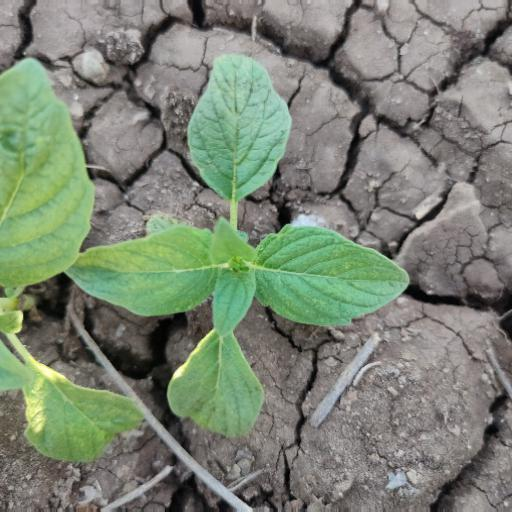crop: (52, 46, 413, 421)
